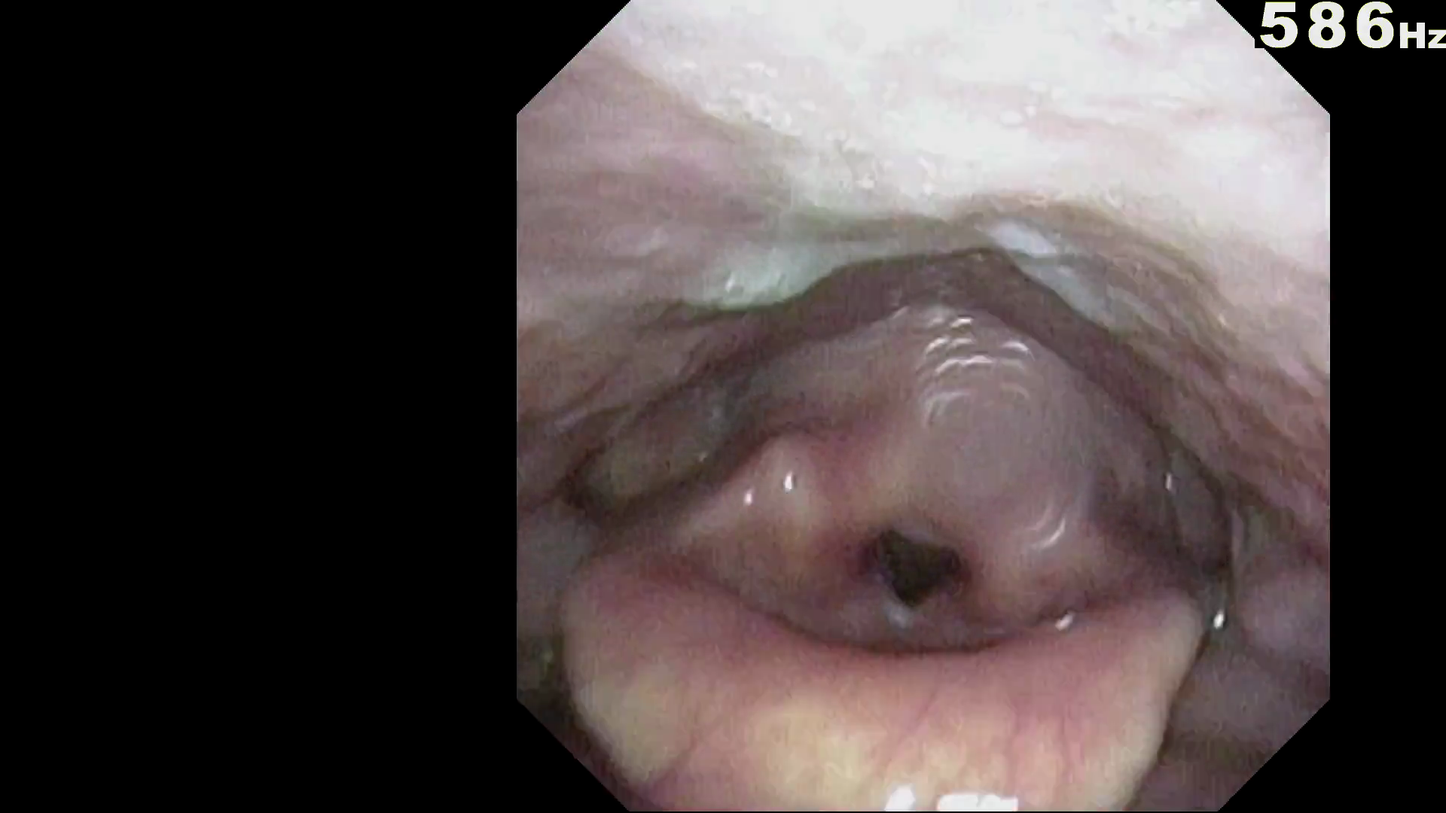epiglottis: (618, 665, 1204, 784)
trachea: (850, 530, 975, 653)
